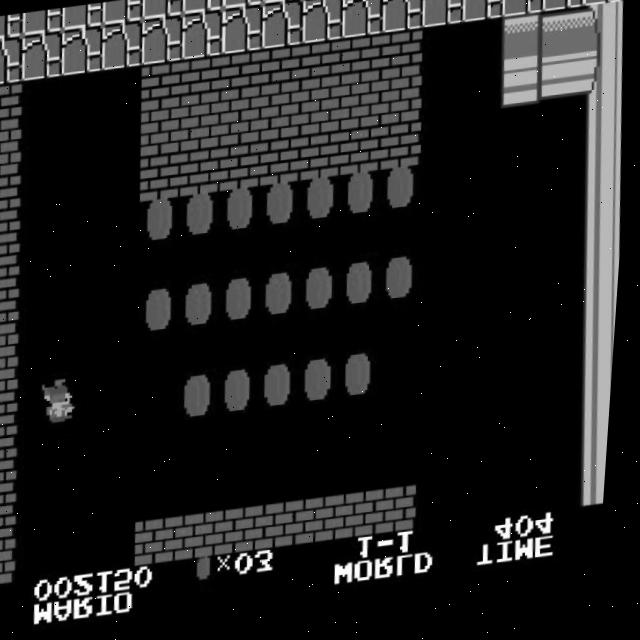1- brick_block: (140, 518, 186, 569), (140, 108, 186, 159), (140, 63, 186, 114), (180, 513, 226, 564), (180, 58, 226, 109), (220, 99, 266, 150), (260, 49, 306, 100), (180, 150, 226, 200), (180, 104, 226, 154), (220, 509, 266, 559), (220, 145, 266, 195), (220, 54, 266, 104), (260, 504, 306, 554), (260, 95, 306, 145), (300, 45, 346, 95), (340, 131, 386, 181), (301, 499, 346, 550), (301, 89, 346, 140), (341, 85, 386, 136), (381, 490, 426, 541), (381, 80, 426, 131), (381, 35, 426, 86), (140, 155, 186, 204), (380, 127, 426, 176), (261, 140, 306, 190), (301, 136, 346, 186), (341, 495, 386, 545), (341, 40, 386, 90), (0, 537, 25, 588), (0, 492, 25, 542), (0, 446, 25, 496), (0, 401, 25, 451), (0, 355, 25, 405), (0, 309, 25, 359), (0, 265, 25, 315), (0, 82, 25, 132), (0, 174, 25, 223), (0, 128, 25, 177), (0, 219, 24, 269)
11- little_mario: (37, 379, 86, 433)
14- pipe: (580, 12, 626, 63), (580, 195, 626, 245), (580, 104, 626, 154), (580, 58, 626, 108), (541, 16, 586, 67), (541, 62, 586, 112), (580, 240, 625, 290), (581, 149, 626, 199), (580, 285, 623, 336), (580, 331, 621, 381), (581, 377, 618, 426), (580, 423, 616, 472), (580, 468, 613, 518)
15- pipe_head: (501, 66, 546, 117), (501, 21, 546, 72)
17- undestructible_block: (20, 31, 66, 82), (100, 22, 146, 73), (140, 17, 186, 68), (220, 8, 266, 59), (260, 3, 306, 54), (60, 27, 106, 77), (300, 0, 346, 50), (181, 12, 226, 63), (341, 0, 386, 44), (381, 0, 426, 40), (421, 0, 466, 35), (461, 0, 506, 31), (0, 36, 25, 86), (21, 9, 64, 37), (61, 4, 104, 32), (101, 0, 145, 27), (501, 0, 546, 26), (541, 0, 587, 22), (141, 0, 185, 22), (181, 0, 225, 18), (580, 0, 626, 17), (0, 14, 24, 40), (222, 0, 265, 13), (262, 0, 305, 9), (302, 0, 345, 4)
2- coin: (140, 199, 186, 250), (180, 195, 226, 246), (220, 281, 266, 332), (260, 276, 306, 327), (260, 185, 306, 236), (340, 176, 386, 227), (140, 291, 186, 341), (180, 377, 226, 427), (180, 286, 226, 336), (300, 181, 346, 231), (340, 358, 386, 408), (221, 190, 266, 241), (301, 272, 346, 323), (341, 267, 386, 318), (261, 368, 306, 418), (381, 263, 426, 313), (381, 172, 426, 222), (221, 373, 266, 422), (301, 364, 346, 413)
